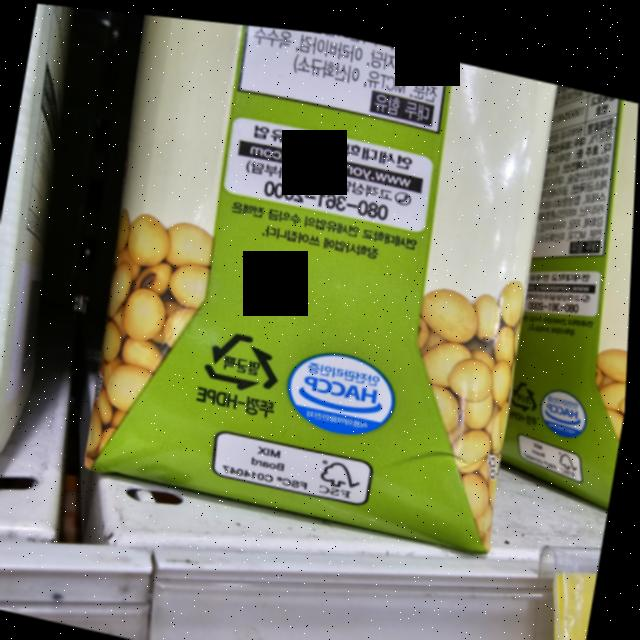SterilizedPack: (203, 317, 292, 394)
